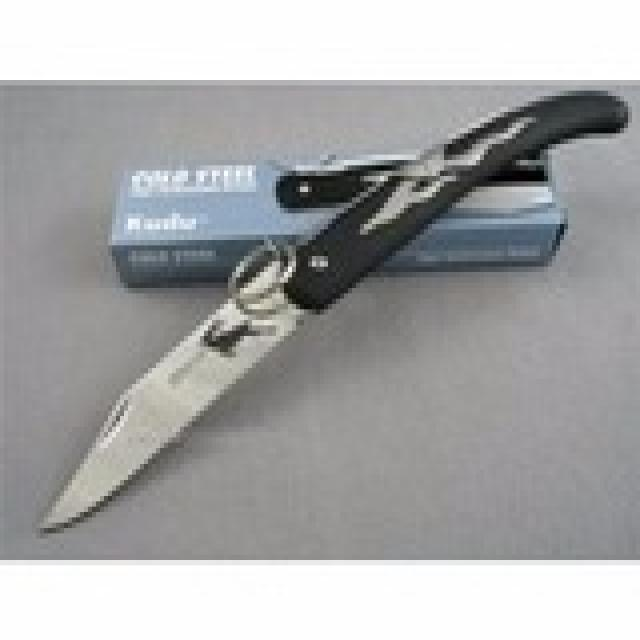Knife: (18, 94, 632, 554)
